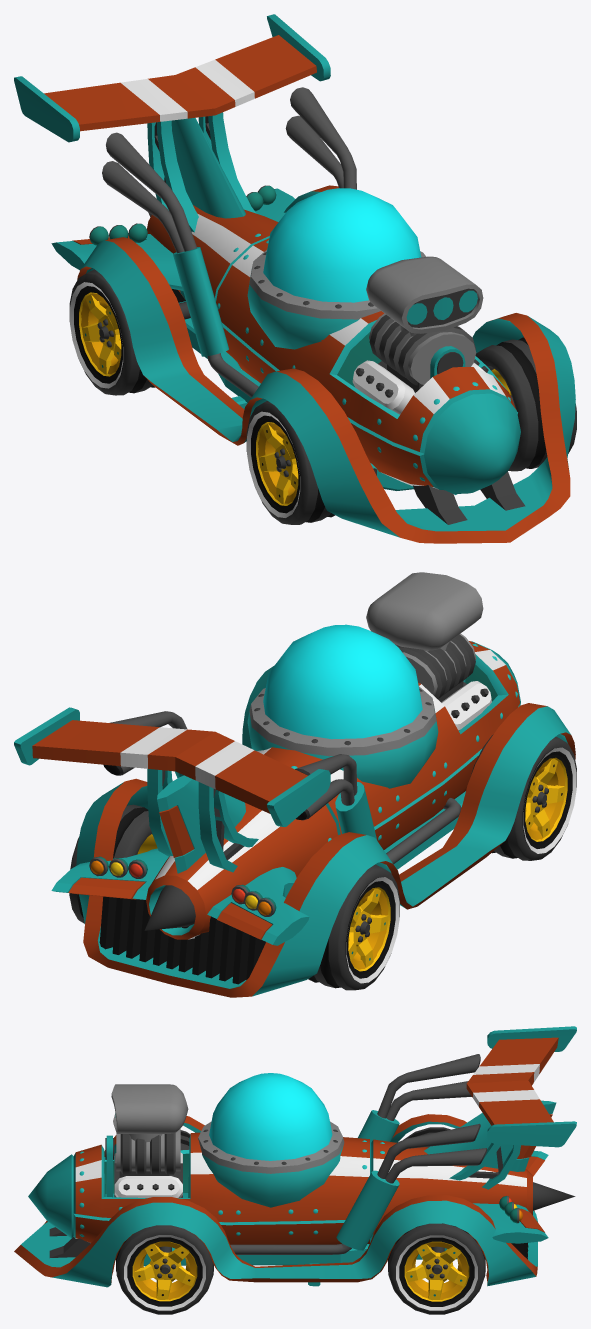
Rendered from VEH23-C.fbx.
The picture shows the model from 3 angles, top to bottom: view 1: azimuth 30°, elevation 25°; view 2: azimuth 150°, elevation 25°; view 3: azimuth 270°, elevation 25°; orthographic projection. The views are drawn at different scales.
Visible parts, largest first — view 1: VEH23_C, VEH23C_Wheel_FR, VEH23C_Wheel_BR, VEH23C_Wheel_FL; view 2: VEH23_C, VEH23C_Wheel_BR, VEH23C_Wheel_FR, VEH23C_Wheel_BL; view 3: VEH23_C, VEH23C_Wheel_BL, VEH23C_Wheel_FL.
Part boxes in pixels (left/top/right/bottom): VEH23_C: left=14, top=14, right=575, bottom=543; VEH23C_Wheel_FR: left=246, top=401, right=335, bottom=524; VEH23C_Wheel_BR: left=69, top=269, right=155, bottom=395; VEH23C_Wheel_FL: left=475, top=337, right=576, bottom=471; VEH23_C: left=14, top=572, right=575, bottom=997; VEH23C_Wheel_BR: left=308, top=864, right=399, bottom=990; VEH23C_Wheel_FR: left=470, top=734, right=576, bottom=860; VEH23C_Wheel_BL: left=69, top=804, right=157, bottom=923; VEH23_C: left=14, top=1026, right=576, bottom=1287; VEH23C_Wheel_BL: left=388, top=1223, right=485, bottom=1314; VEH23C_Wheel_FL: left=116, top=1225, right=213, bottom=1314.
Bounding box in the file's own units: 230 × 192 × 513.
1 material, 1 textured.
